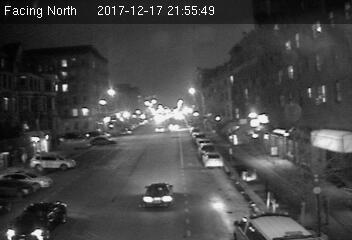car: (5, 199, 66, 240), (139, 180, 174, 207), (196, 152, 223, 168)
police: (231, 205, 311, 240)
